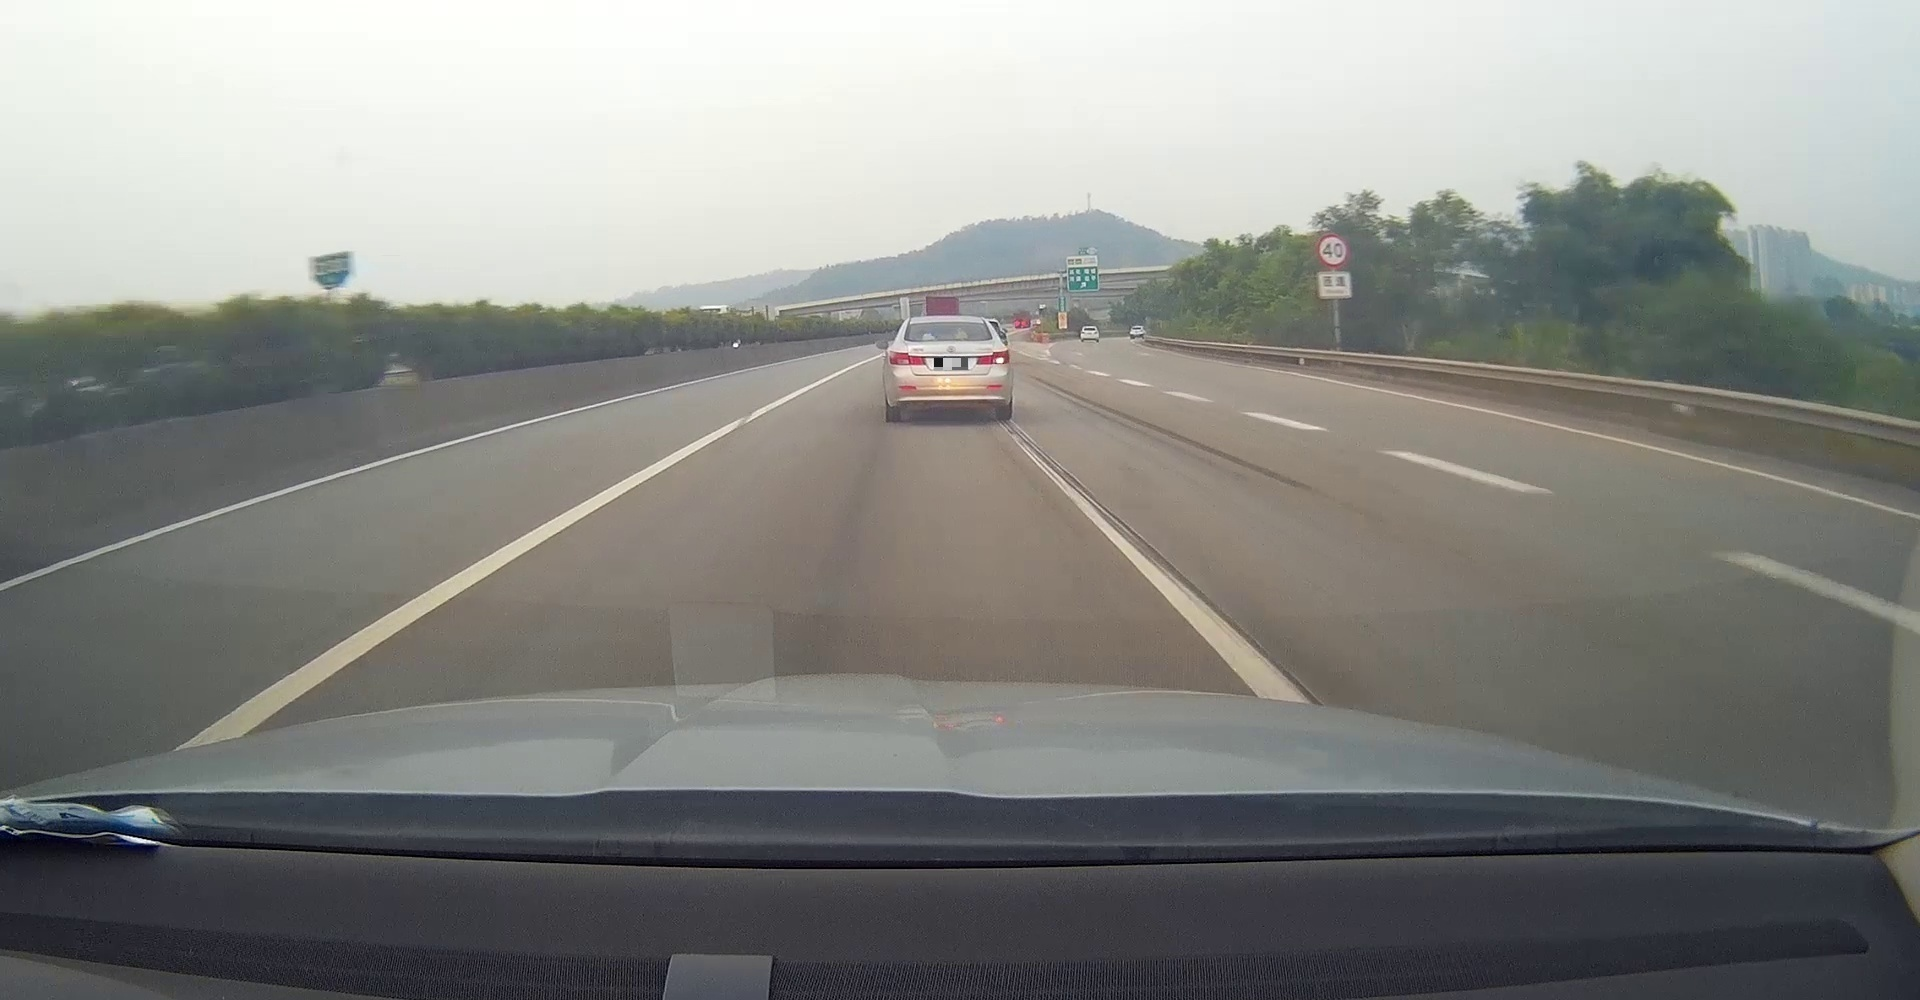L_light: (889, 350, 924, 365)
R_light: (977, 350, 1010, 365)
T_light: (940, 335, 956, 340)
day-right: (883, 315, 1015, 423)
plate_1: (935, 358, 968, 371)
